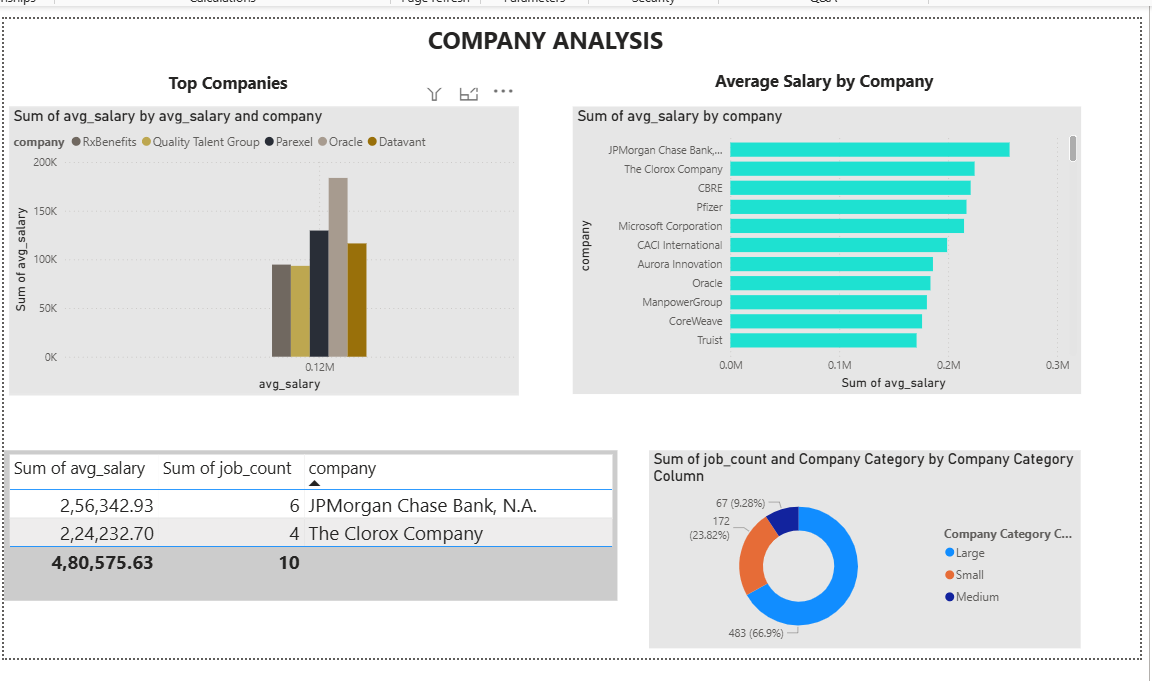

What the dashboard file says about the page in this screenshot:
{"tool":"powerbi","page":{"name":"Page 2","canvas":[1280,720],"ordinal":1},"visuals":[{"type":"clusteredColumnChart","title":"Average Salary by Salary Tier","fields":{"Y":["Avg(job_analysis_db view_company_analysis.avg_salary)"],"Category":["job_analysis_db view_company_benchmark.salary_tier"],"Series":["job_analysis_db view_company_analysis.company"]},"box":[22.6,104.8,573.8,325],"z":0},{"type":"clusteredBarChart","title":"Top 5 Companies by Average Salary","fields":{"Y":["Sum(job_analysis_db view_company_benchmark.avg_salary)"],"Category":["job_analysis_db view_company_benchmark.company"]},"box":[640.5,104.8,613.1,313.1],"z":1000},{"type":"tableEx","title":"Top company","fields":{"Values":["job_analysis_db view_company_analysis.company","job_analysis_db view_company_analysis.avg_salary","job_analysis_db view_company_analysis.job_count"]},"box":[627.4,444,626.2,222.6],"z":2000},{"type":"donutChart","title":"Job Distribution by Company Size","fields":{"Category":["job_analysis_db view_company_analysis.Company Category Column"],"Y":["Sum(job_analysis_db view_company_analysis.job_count)"]},"box":[50,444,485.7,222.6],"z":3000},{"type":"textbox","box":[292.9,0,634.4,77.7],"z":4000},{"type":"textbox","box":[106.8,54.1,290.5,55.4],"z":5000},{"type":"textbox","box":[755.4,52.7,343.2,60.8],"z":6000}]}

Visuals, with their boxes on the page's 1280x720 design canvas (x1, y1, x2, y2). These are canvas units, not pixel positions in the 1152x681 screenshot, which may show the page scaled, cropped or inside an application window:
"Average Salary by Salary Tier" clusteredColumnChart: BBox(23, 105, 596, 430)
"Top 5 Companies by Average Salary" clusteredBarChart: BBox(640, 105, 1254, 418)
"Top company" tableEx: BBox(627, 444, 1254, 667)
"Job Distribution by Company Size" donutChart: BBox(50, 444, 536, 667)
textbox: BBox(293, 0, 927, 78)
textbox: BBox(107, 54, 397, 110)
textbox: BBox(755, 53, 1099, 114)
